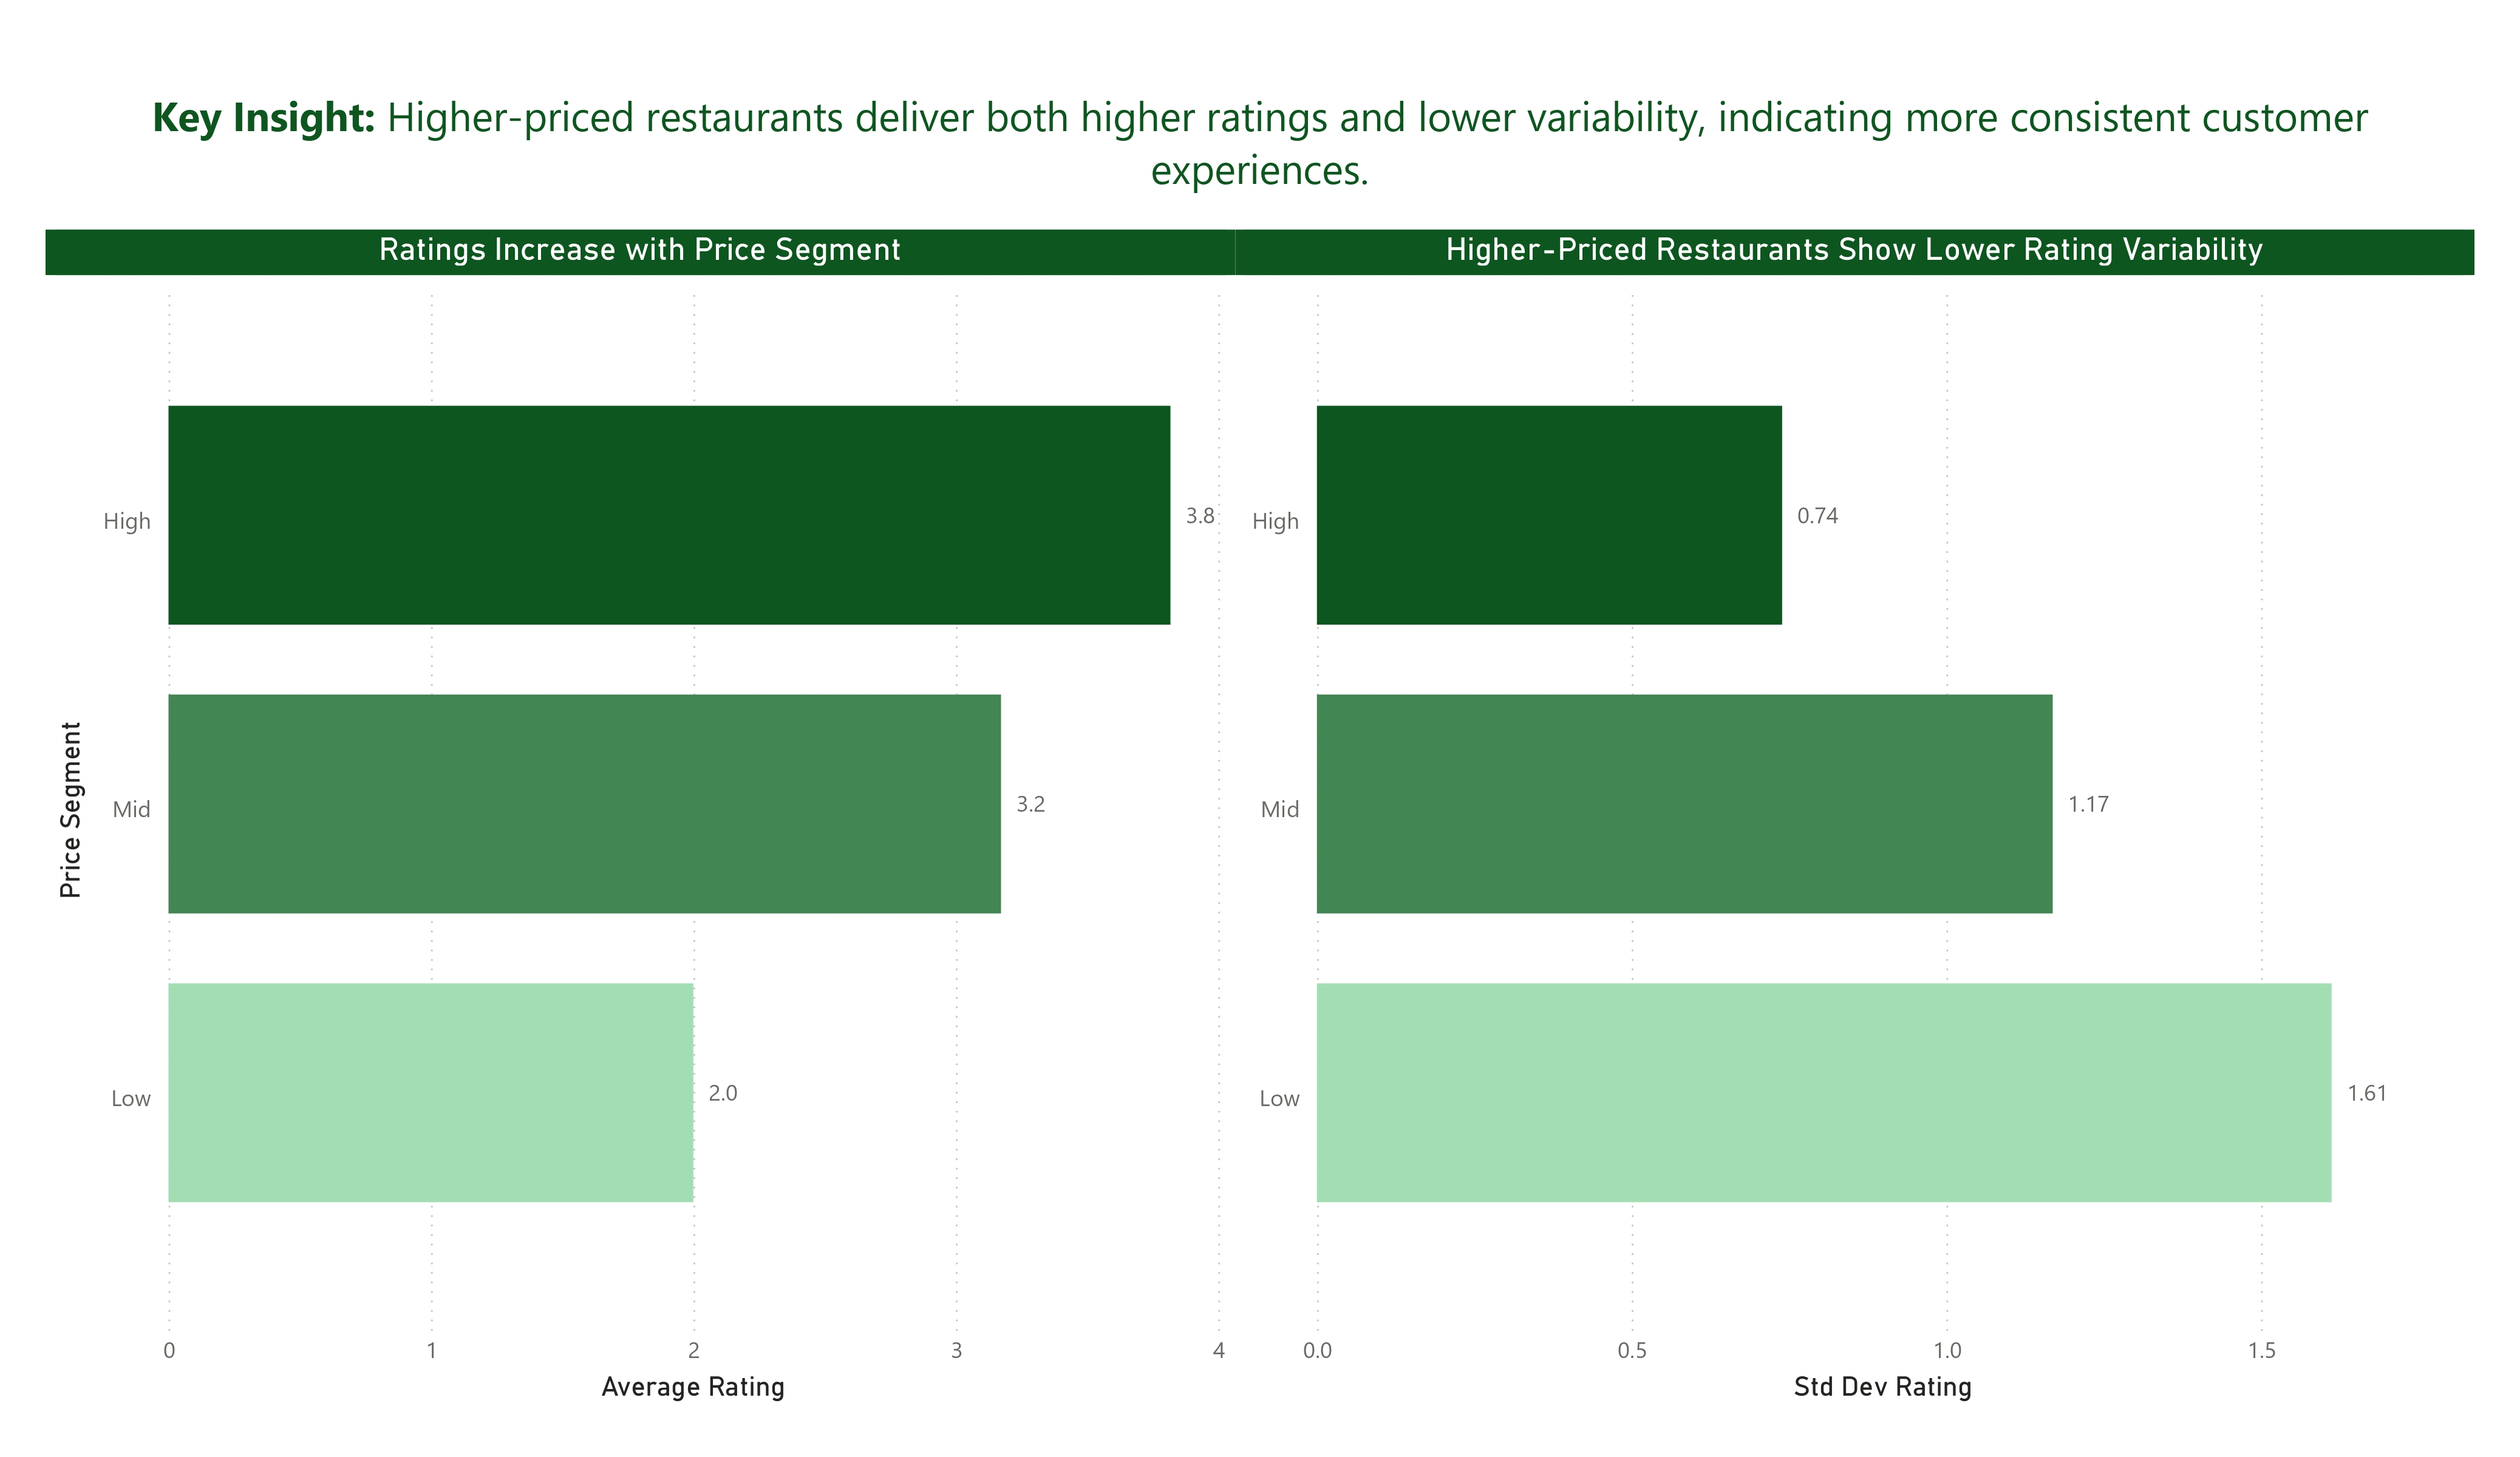

What the dashboard file says about the page in this screenshot:
{"tool":"powerbi","page":{"name":"Pricing & Rating Dynamics","canvas":[1280,720],"ordinal":1},"visuals":[{"type":"barChart","title":"Ratings Increase with Price Segment","fields":{"Y":["Avg(public zomato_analytics.aggregate_rating)"],"Category":["public zomato_analytics.price_segment"]},"box":[0,97,627,623.2],"z":0},{"type":"barChart","title":"Higher-Priced Restaurants Show Lower Rating Variability","fields":{"Y":["Sum(public zomato_analytics.aggregate_rating)"],"Category":["public zomato_analytics.price_segment"]},"box":[627,97,653.1,623.2],"z":1000},{"type":"textbox","box":[0,0,1280,97],"z":2000}]}

Visuals, with their boxes on the page's 1280x720 design canvas (x1, y1, x2, y2). These are canvas units, not pixel positions in the 2520x1457 screenshot, which may show the page scaled, cropped or inside an application window:
"Ratings Increase with Price Segment" barChart: 0:97:627:720
"Higher-Priced Restaurants Show Lower Rating Variability" barChart: 627:97:1280:720
textbox: 0:0:1280:97
